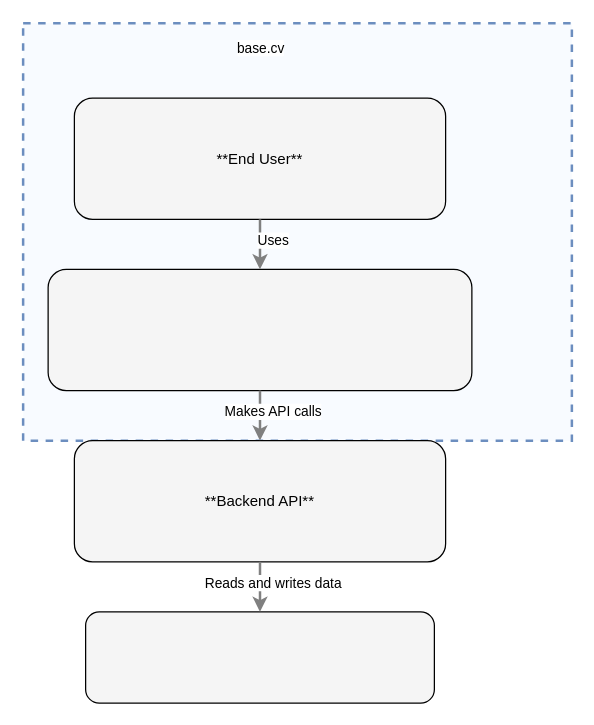
This 594x725 diagram has some shape labels left out. Here are the shapes that lost their labels. From the top down, the centre of each, then its label:
At point 259,329: "**Proximity Profiles SPA**".
At point 259,657: "**Proximity Profiles Database**".
